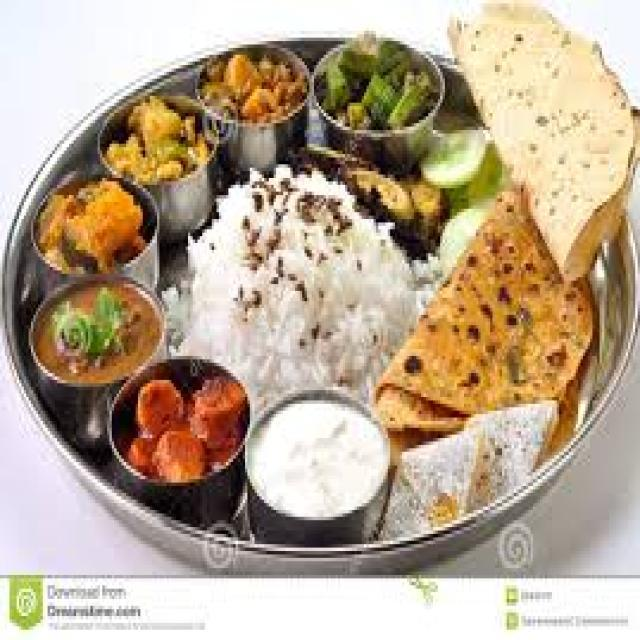dal: (21, 282, 163, 417), (31, 173, 150, 277)
papad: (446, 13, 640, 207)
rice: (245, 388, 391, 534)
roti: (207, 159, 414, 391), (394, 205, 595, 436)
sweet: (97, 357, 249, 499)
veg-fry: (105, 79, 210, 198)
